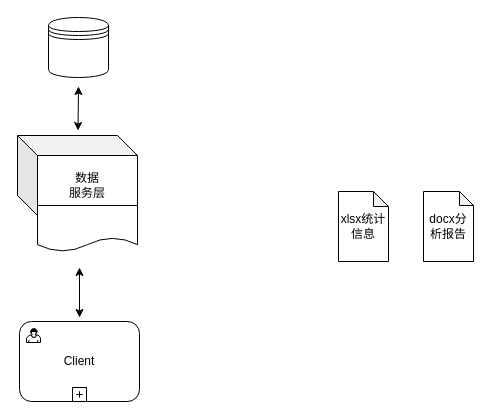
Some shapes in this 491 by 419 pixel diagram are drawn without their labels. The centre of each missing label's shape, as x and y in pixels:
"协议数据接口" belongs at point (87, 228).
"数据库" belongs at point (78, 47).
